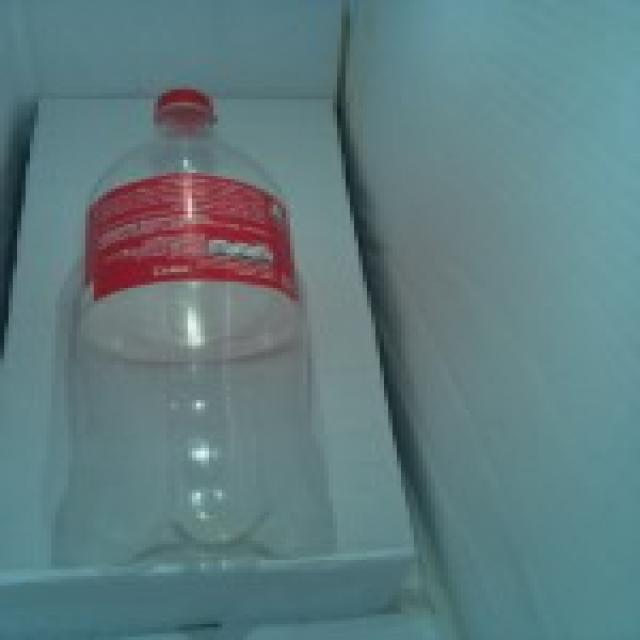trash: (50, 80, 364, 592)
